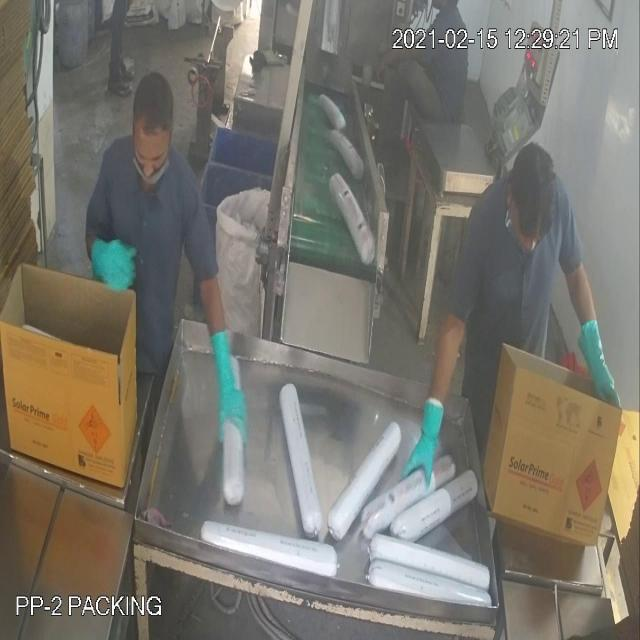Gloves: (46, 50, 600, 433)
